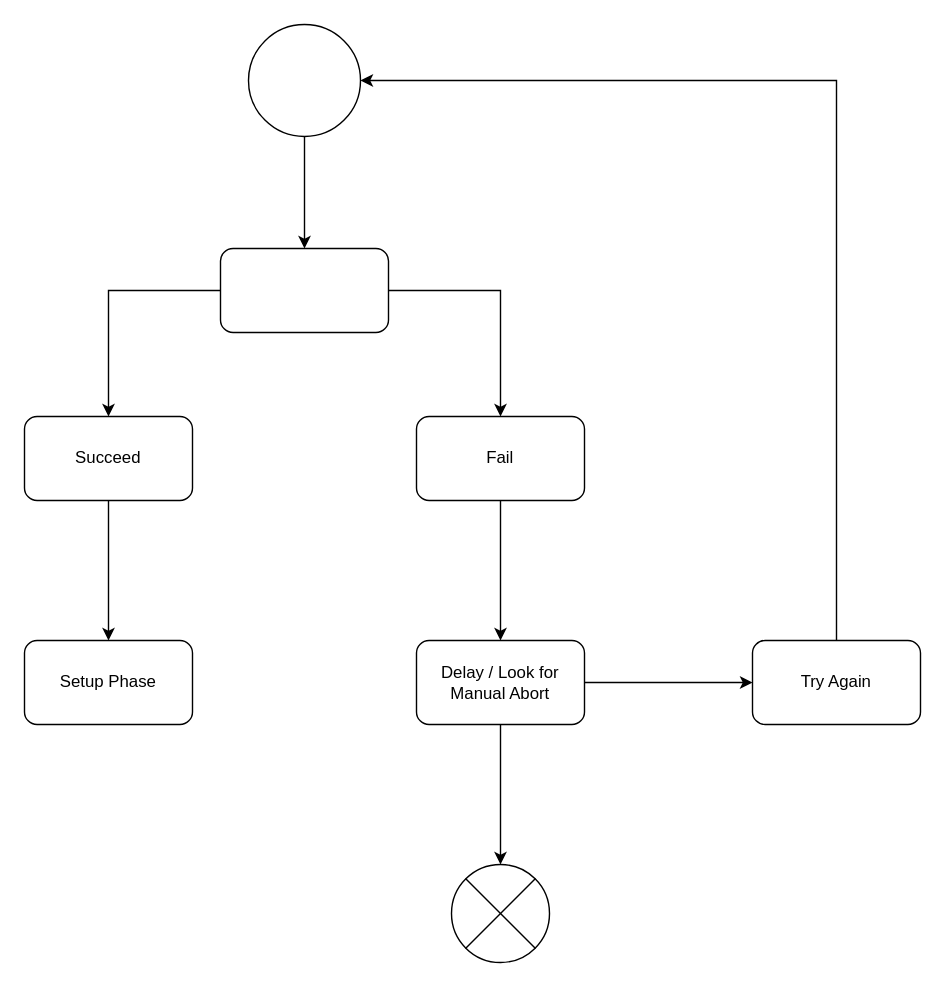
This 945x987 diagram has some shape labels left out. Here are the shapes that lost their labels. From the top down, the centre of each, then its label:
(303,79): Start
(303,289): Connect with Opponent
